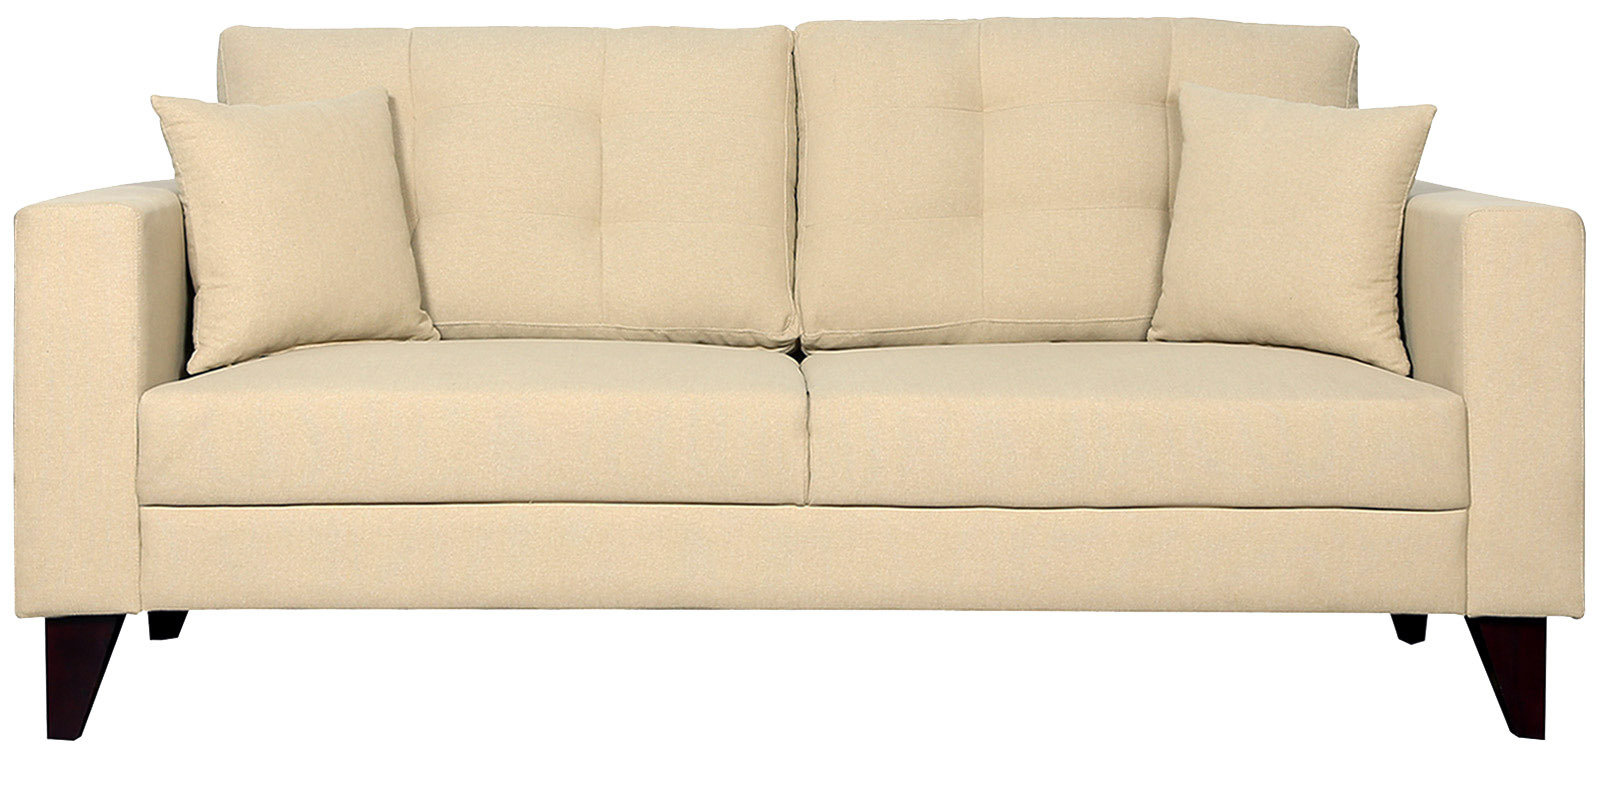Alfredo Three Seater Sofa in Beige Colour by CasaCraft: (6, 16, 1600, 765)
